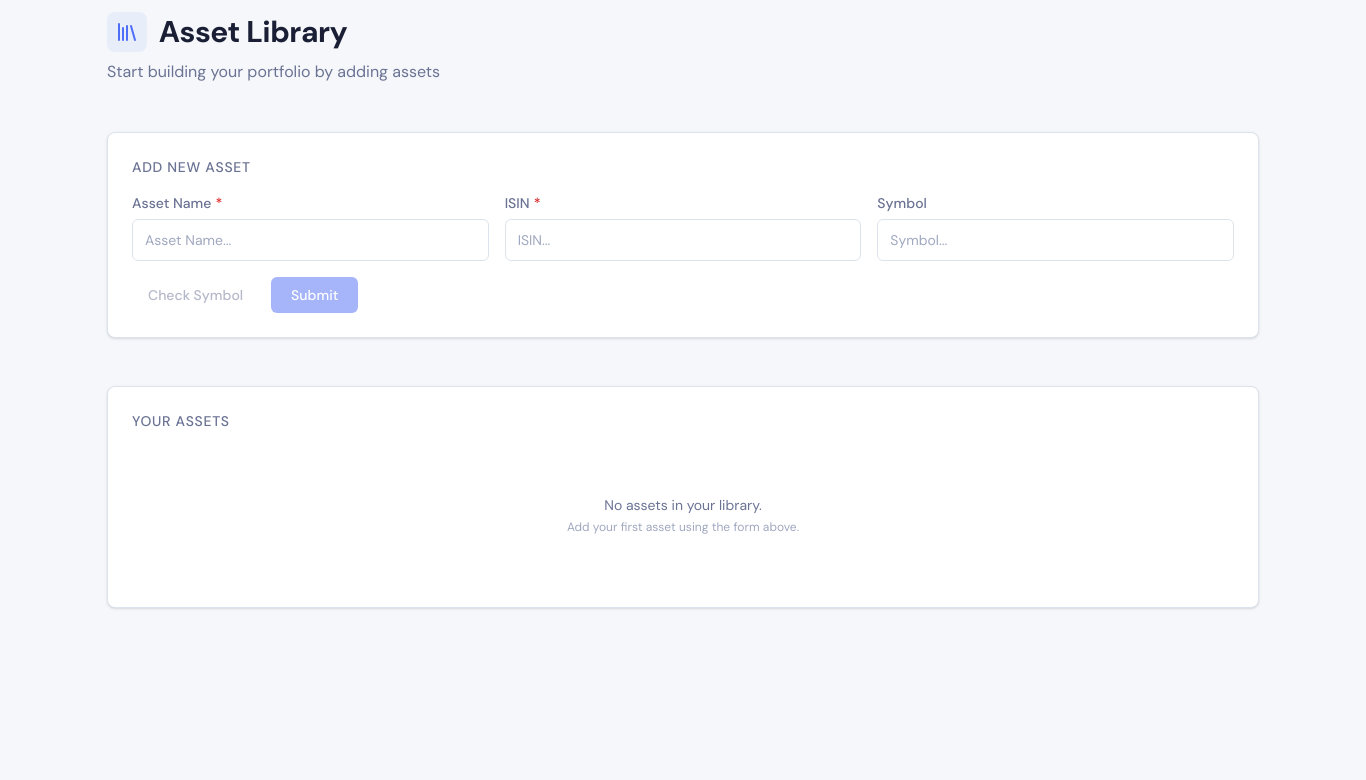
Test case: Assets tab › shows a validation error when the ISIN is not exactly 12 characters
The image size is (1366, 780).
Type "SHORT" into the field labelled "ISIN*". click: (683, 240)
box: top-left (505, 219), bottom-right (861, 261)
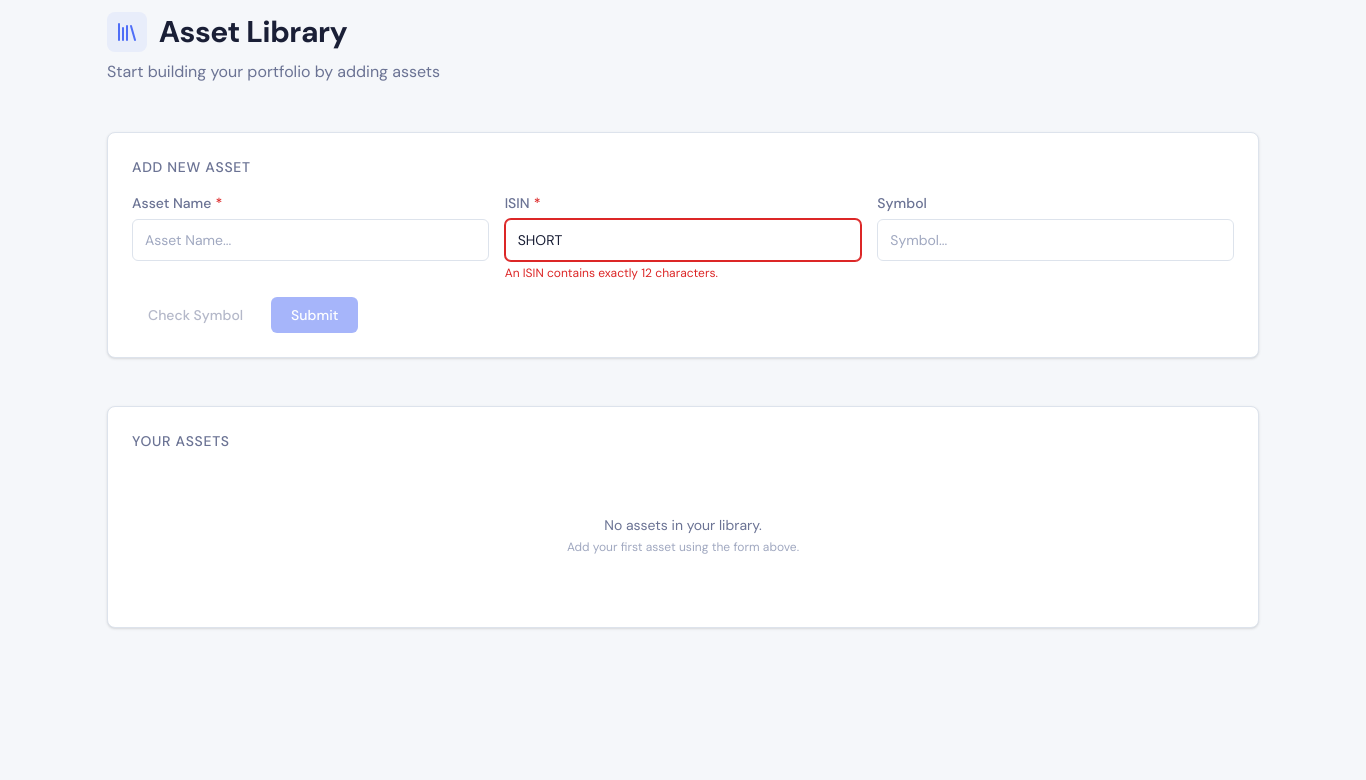
Expected: the text "An ISIN contains exactly 12 characters." is shown, top-left (505, 265), bottom-right (718, 281)
